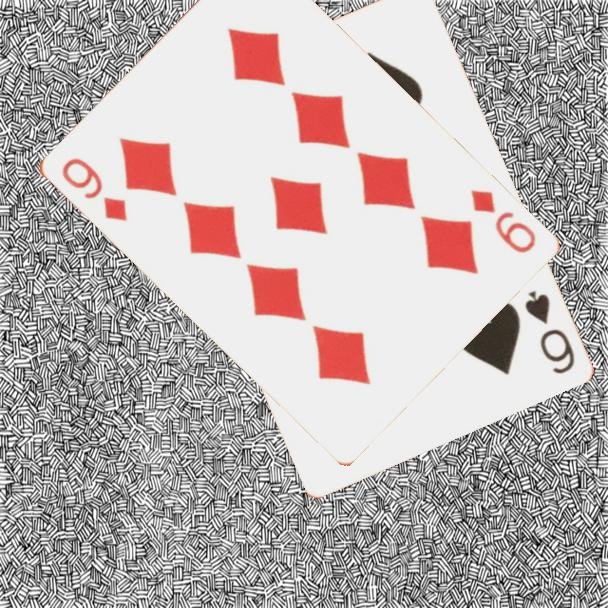d09: (466, 185, 539, 257), (57, 154, 130, 224)
s06: (520, 286, 577, 377)
